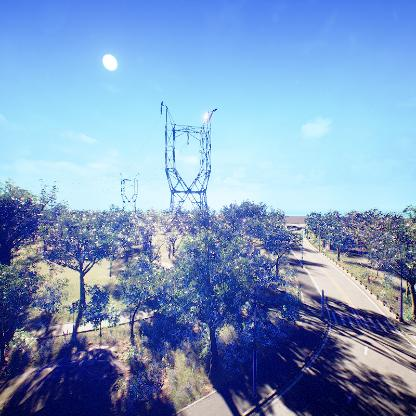tower: (155, 98, 222, 271), (116, 170, 141, 215)
